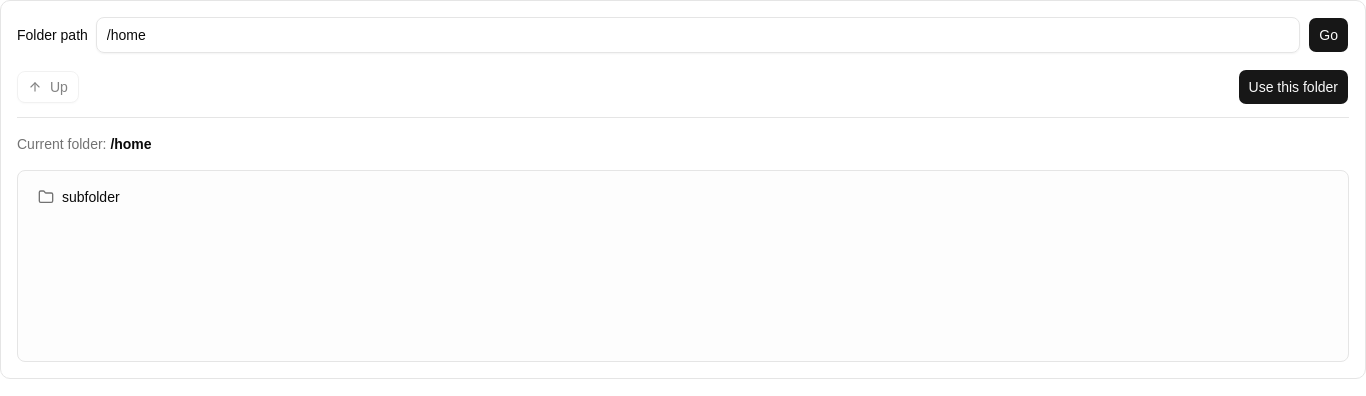
Test: FolderBrowser › opens subfolder when clicking on it
Expected: the text "subfolder" is shown, [62,187,120,207]
Click the button "subfolder" at (91, 197), box [26,179,1340,215]
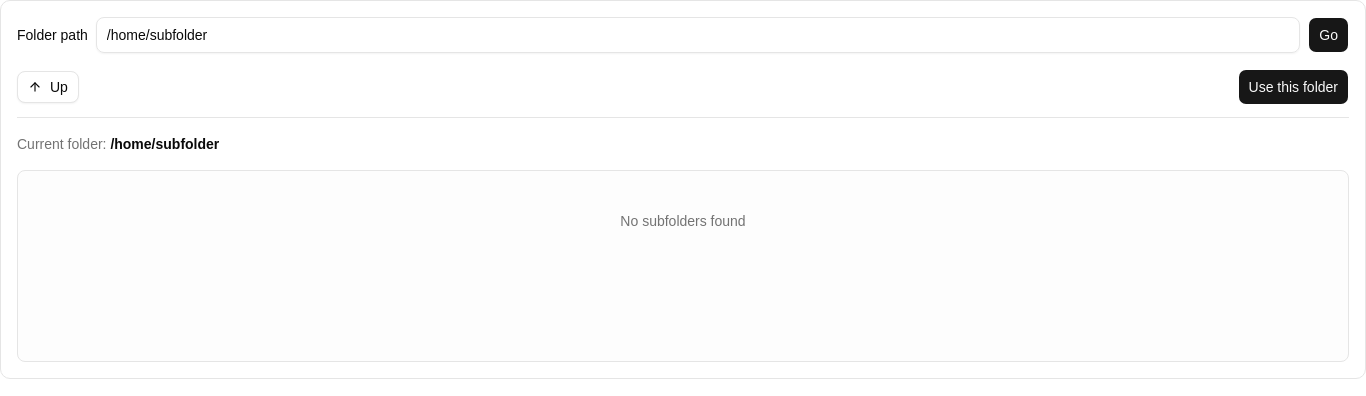
Now the text "/home/subfolder" is shown, box [110,136,219,152]
